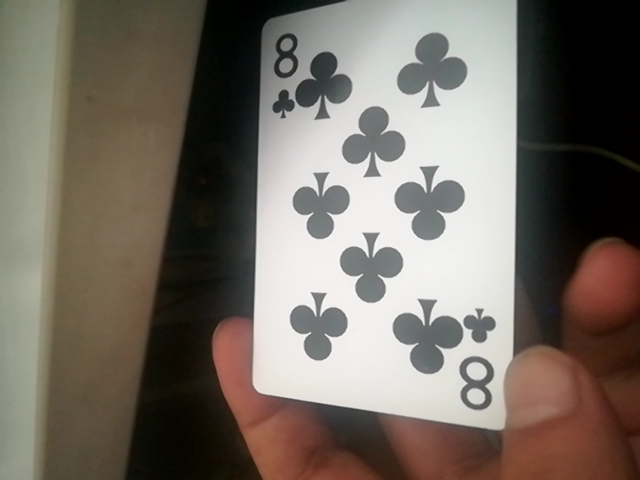mh 8: (243, 19, 531, 437)
